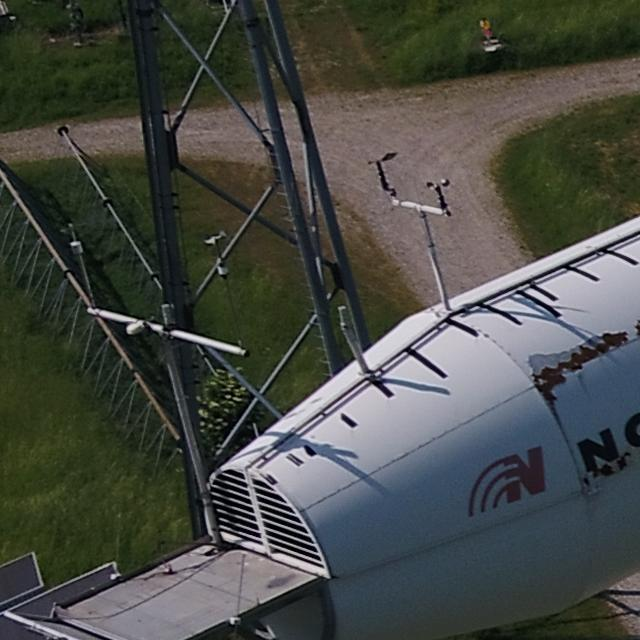damage: (520, 332, 631, 401), (618, 449, 634, 472), (600, 461, 615, 481)
